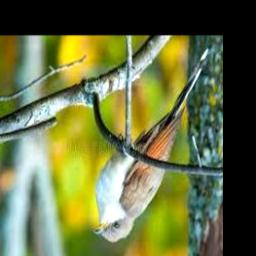Cuckoo: (93, 49, 210, 243)
